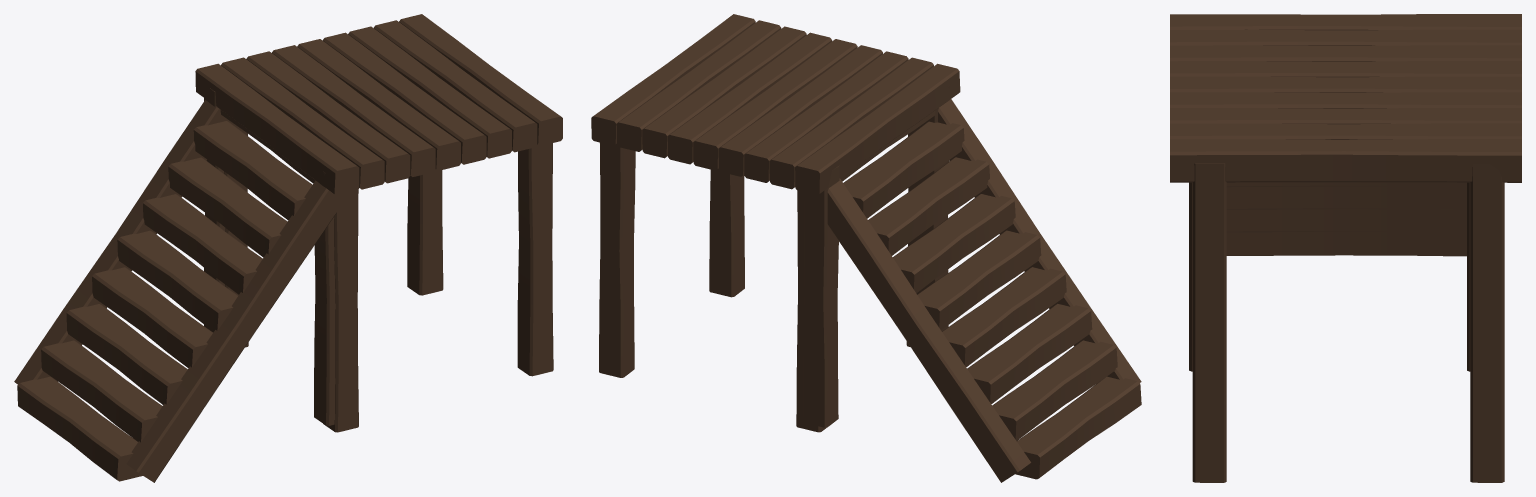
File: StairSet3.fbx
3 views of the same model, side by side, from view 1: azimuth 30°, elevation 25°; view 2: azimuth 150°, elevation 25°; view 3: azimuth 270°, elevation 25° (orthographic). The views are drawn at different scales.
Visible parts, largest first — view 1: Cube.020; view 2: Cube.020; view 3: Cube.020.
Boxes of the visible parts, left/top/right/bottom form: Cube.020: left=14, top=14, right=562, bottom=482; Cube.020: left=591, top=14, right=1141, bottom=482; Cube.020: left=1170, top=14, right=1521, bottom=482.
Size of the model in its own units: 4.43 by 2.73 by 2.5.
